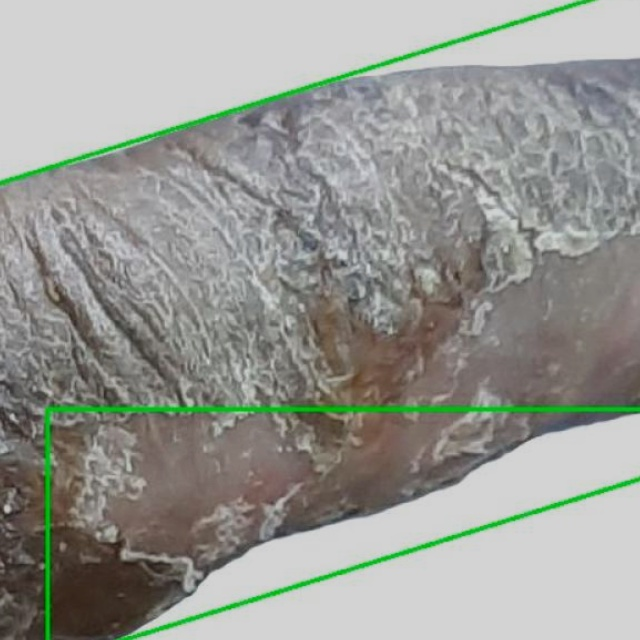Eczema: (0, 0, 639, 639), (47, 409, 639, 639)
